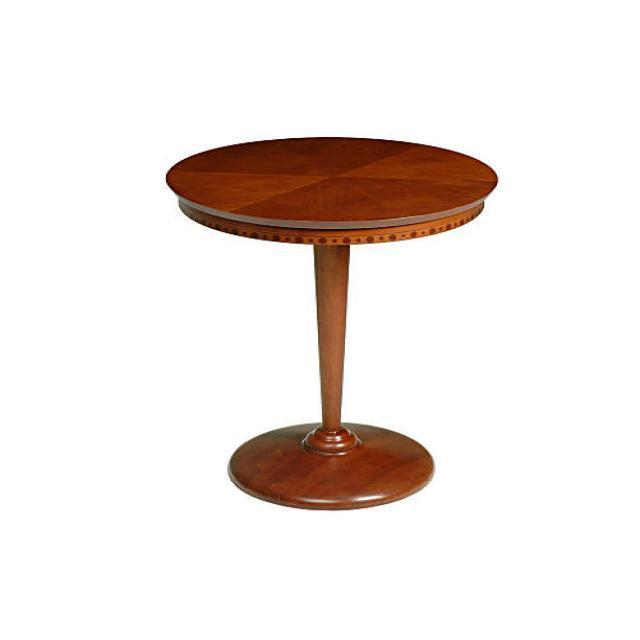table: (164, 134, 498, 510)
